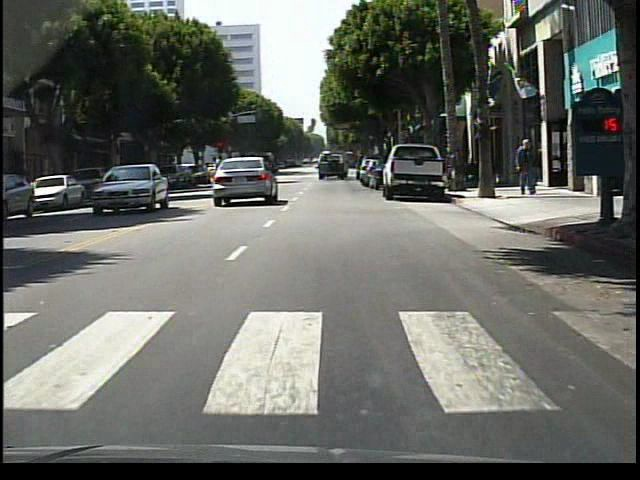person: (517, 139, 538, 199), (523, 147, 539, 195), (214, 157, 228, 201)
